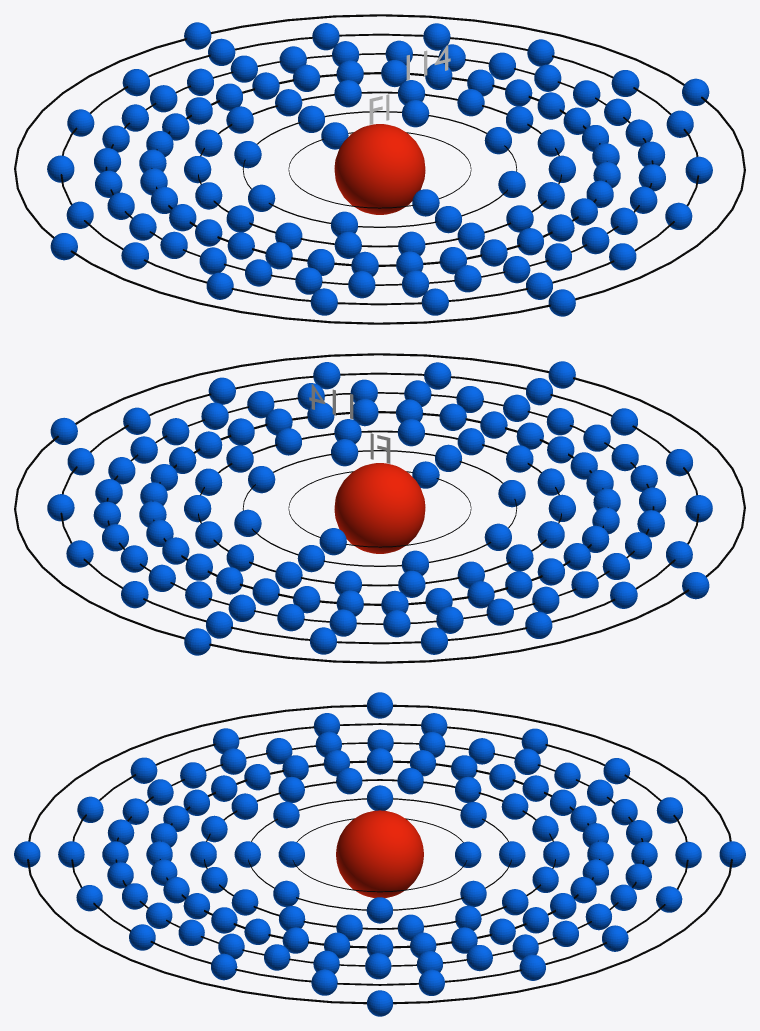
3 views of the same model, one above another, from view 1: azimuth 30°, elevation 25°; view 2: azimuth 150°, elevation 25°; view 3: azimuth 270°, elevation 25° (orthographic). The views are drawn at different scales.
Parts seen in each view (by area): view 1: Fl5, Fl4, Fl6, Fl3, Proton, Fl2, n7, n6, Fl7, n5, Fl1, n3 (+2 smaller); view 2: Fl5, Fl4, Fl6, Fl3, Proton, Fl2, n7, n6, Fl7, n5, Fl1, n3 (+2 smaller); view 3: Fl5, Fl4, Fl3, Fl6, Proton, Fl2, n7, n6, Fl7, n5, Fl1, n3 (+2 smaller).
Boxes of the visible parts, bbox=[...] form: Fl5: bbox=[94, 40, 665, 298]; Fl4: bbox=[139, 60, 620, 276]; Fl6: bbox=[47, 23, 712, 315]; Fl3: bbox=[184, 80, 575, 258]; Proton: bbox=[334, 124, 425, 214]; Fl2: bbox=[234, 100, 525, 236]; n7: bbox=[14, 14, 745, 324]; n6: bbox=[60, 33, 699, 305]; Fl7: bbox=[50, 22, 709, 316]; n5: bbox=[105, 53, 653, 285]; Fl1: bbox=[321, 122, 439, 216]; n3: bbox=[198, 91, 561, 247]; Fl5: bbox=[93, 379, 666, 637]; Fl4: bbox=[139, 399, 620, 616]; Fl6: bbox=[47, 362, 712, 654]; Fl3: bbox=[184, 419, 575, 597]; Proton: bbox=[334, 463, 425, 553]; Fl2: bbox=[234, 439, 525, 575]; n7: bbox=[14, 353, 745, 663]; n6: bbox=[60, 372, 699, 644]; Fl7: bbox=[50, 361, 709, 655]; n5: bbox=[106, 392, 654, 624]; Fl1: bbox=[319, 461, 439, 555]; n3: bbox=[198, 430, 561, 586]; Fl5: bbox=[102, 729, 657, 979]; Fl4: bbox=[146, 748, 613, 958]; Fl3: bbox=[190, 768, 569, 940]; Fl6: bbox=[58, 713, 701, 995]; Proton: bbox=[336, 810, 423, 897]; Fl2: bbox=[234, 785, 525, 923]; n7: bbox=[27, 704, 732, 1004]; n6: bbox=[71, 723, 688, 985]; Fl7: bbox=[14, 692, 745, 1016]; n5: bbox=[115, 742, 644, 966]; Fl1: bbox=[278, 841, 481, 867]; n3: bbox=[204, 779, 555, 929].
Bounding box in the file's own units: 830 × 180 × 830.
